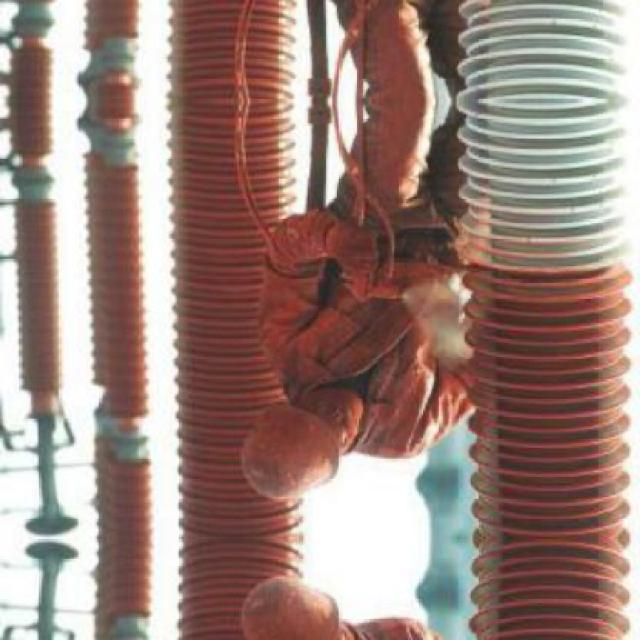con casco: (200, 347, 397, 528)
